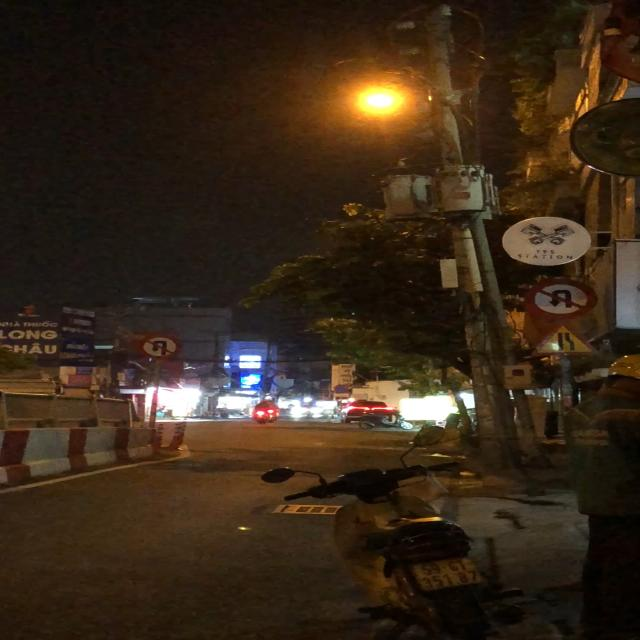Bien bao cam quay dau xe: (521, 277, 604, 320), (136, 334, 182, 359)
Bien bao duong bi thu hep: (526, 322, 604, 359)
